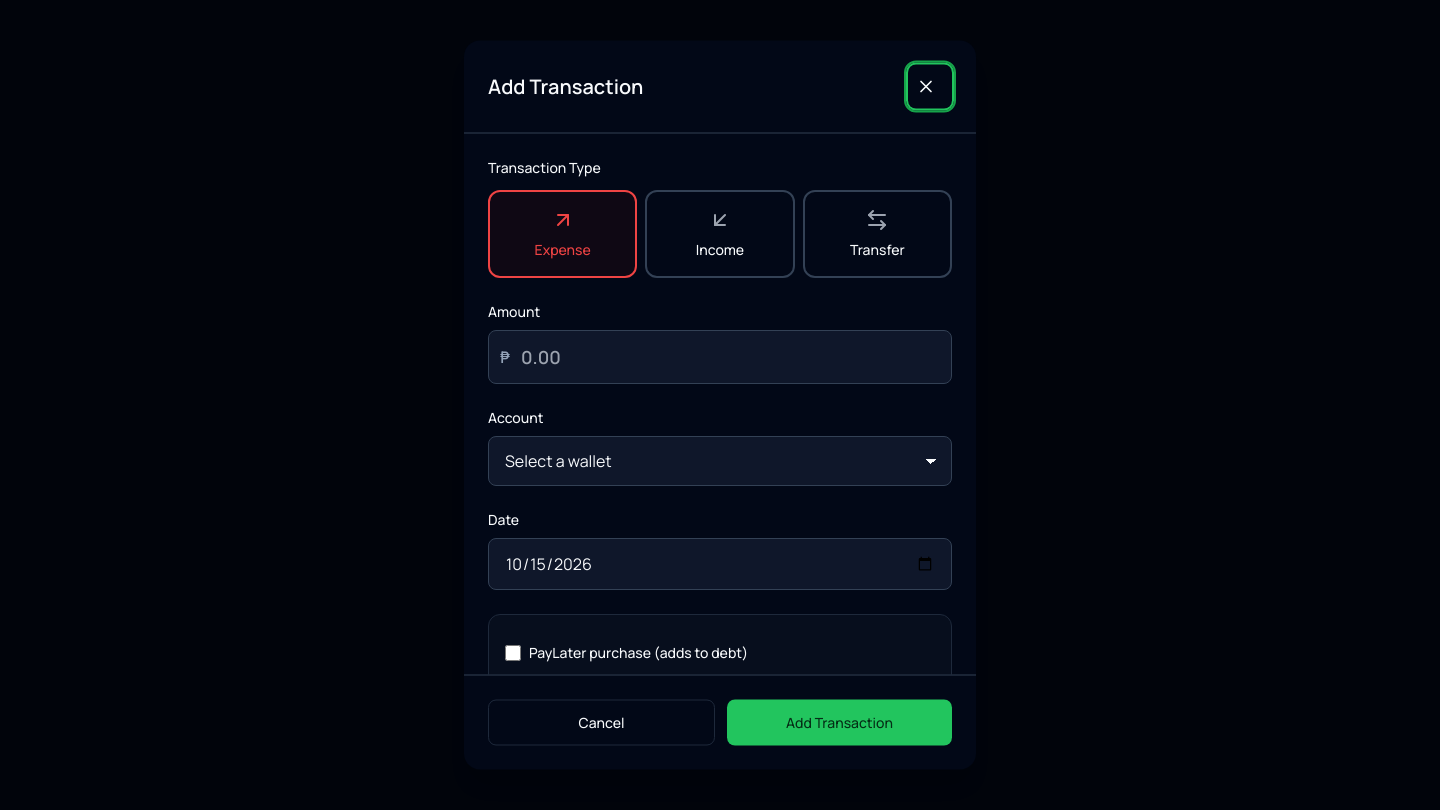
Test case: transaction dialog blocks an unreviewed default goal before requesting a quote
Select "GCash" in the dropdown labelled "Account": (720, 460) top-left (488, 436), bottom-right (952, 486)
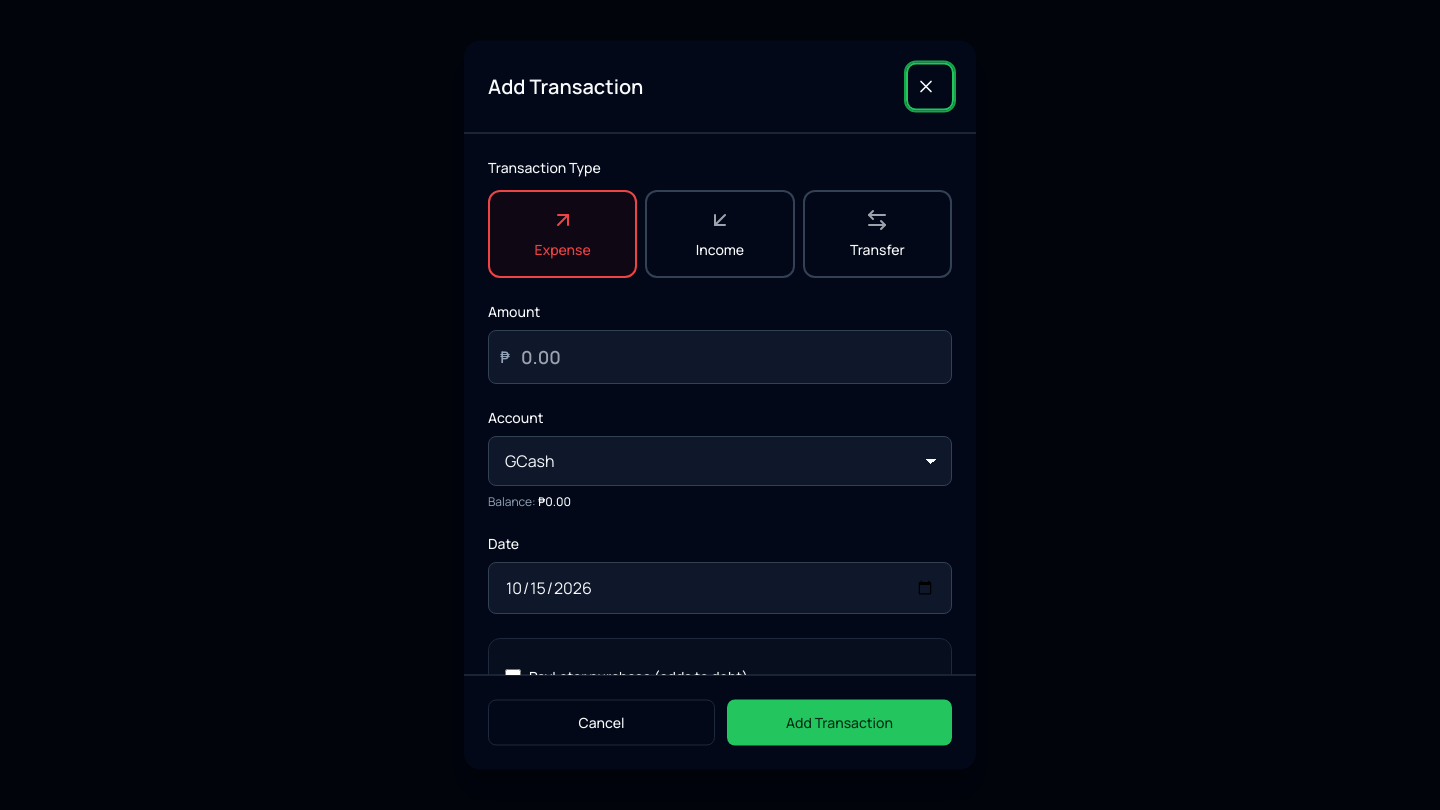
In the number field labelled "Amount": (720, 356) top-left (488, 330), bottom-right (952, 384), type "100"
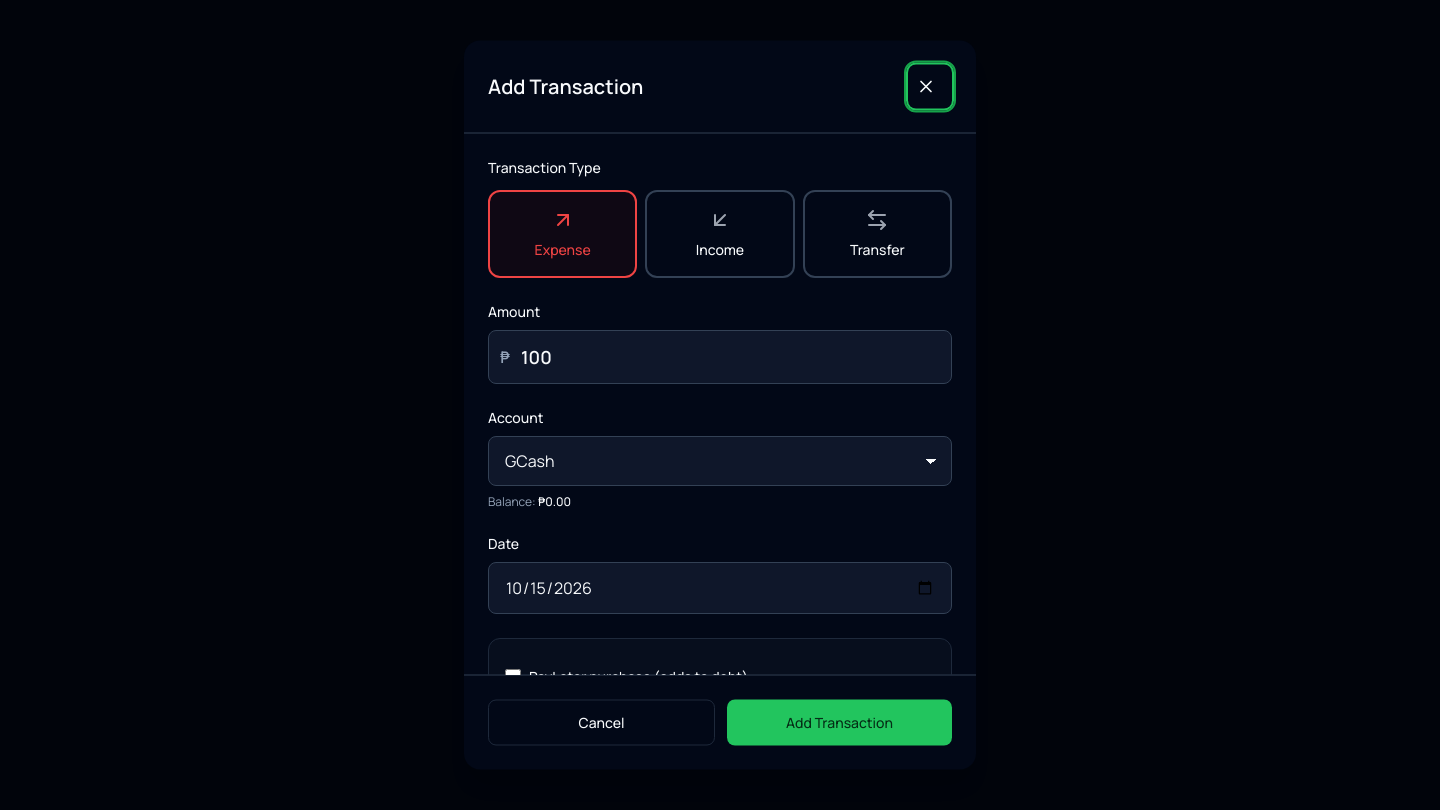
Click the button "Add Transaction": (840, 722) top-left (727, 700), bottom-right (952, 746)
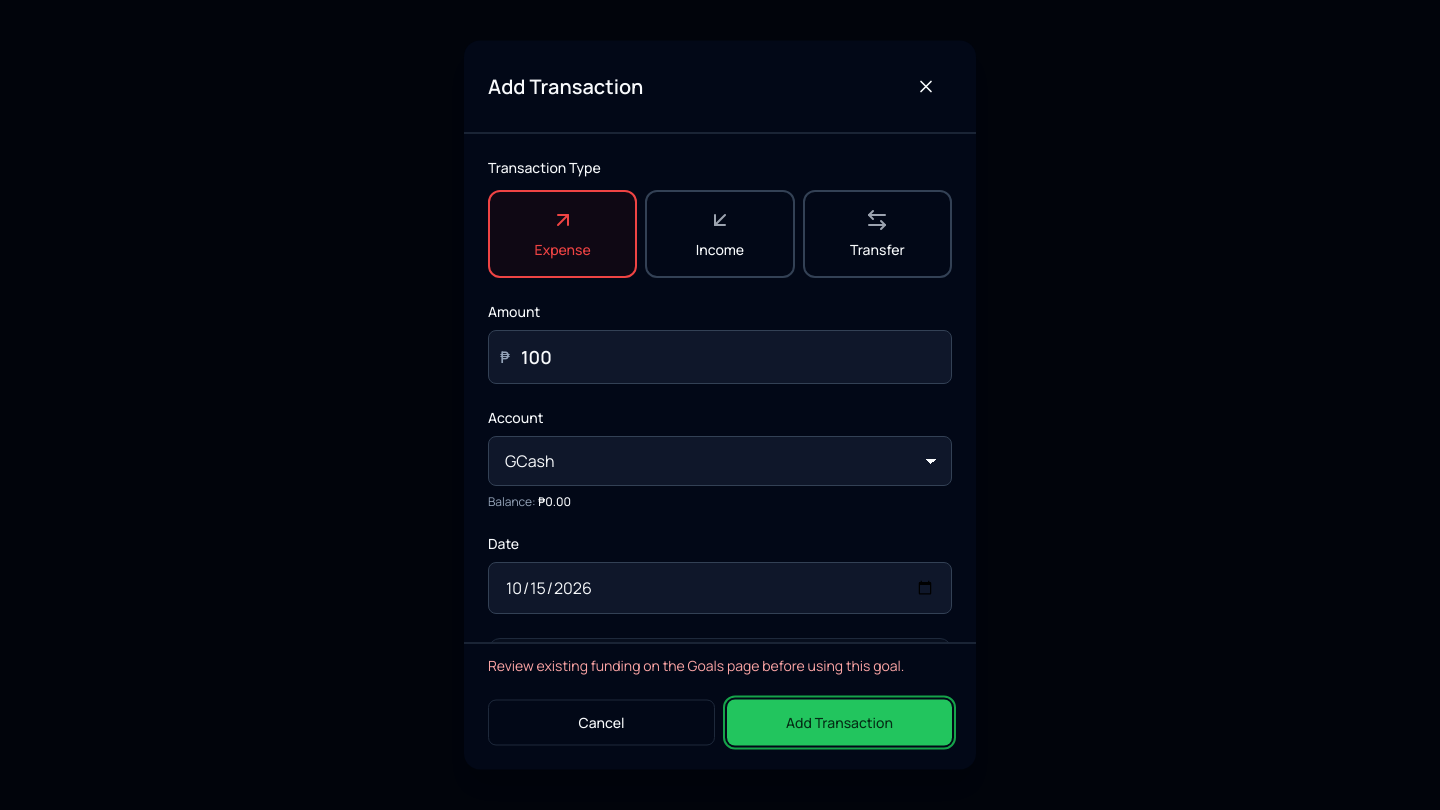
Expected: the message shows "Review existing funding", top-left (488, 656), bottom-right (904, 674)
